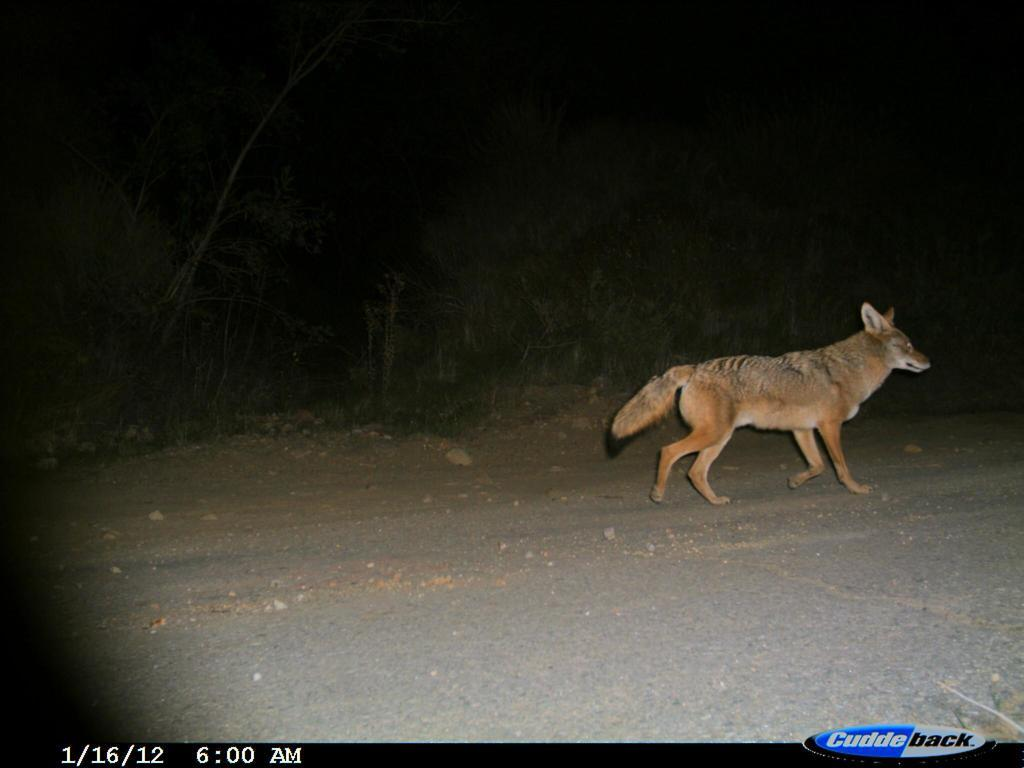coyote: (600, 297, 935, 515)
